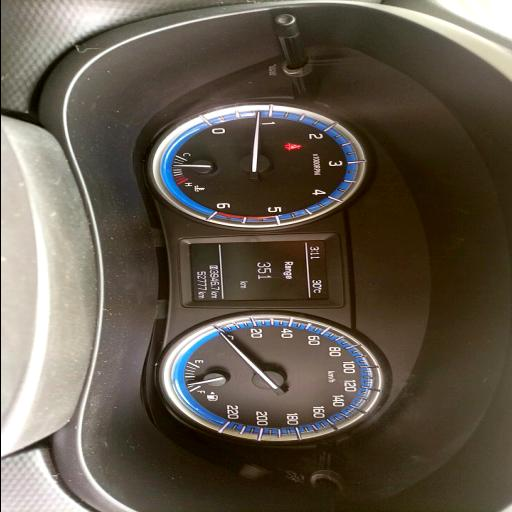belt: (284, 142, 302, 150)
tachometer: (152, 104, 366, 228)
